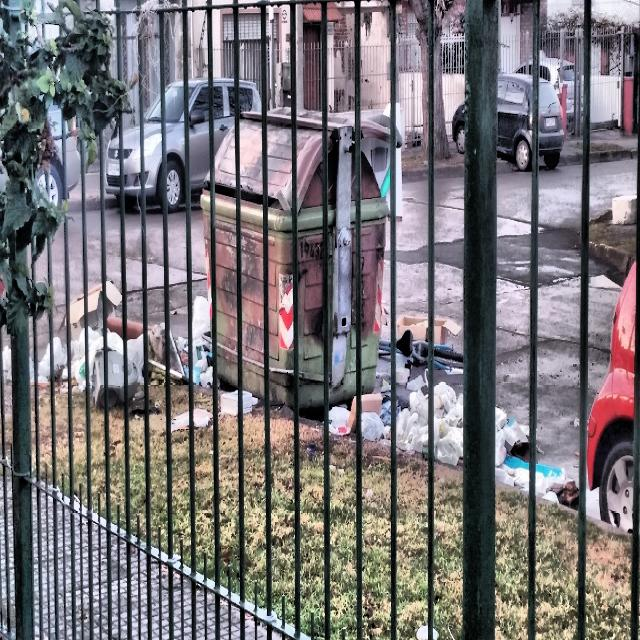garbage: (318, 366, 510, 469), (46, 297, 214, 398), (384, 299, 458, 396)
